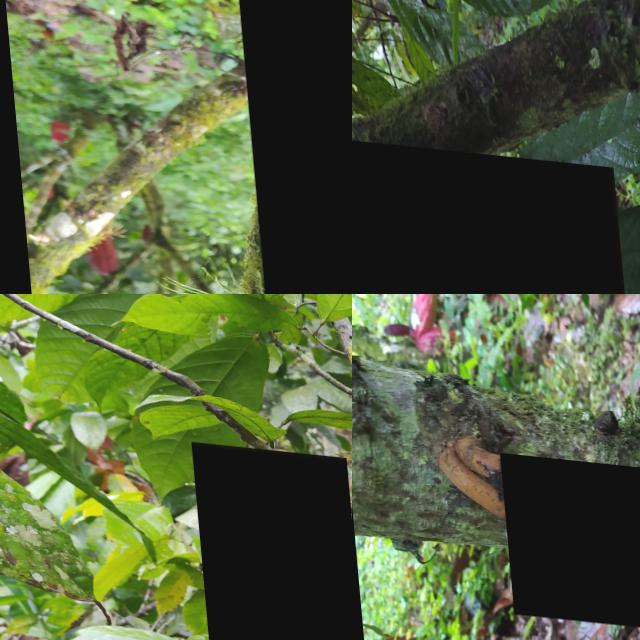Fitoftora: (233, 0, 352, 294)
Monilia: (352, 134, 625, 294), (187, 436, 352, 640), (495, 449, 640, 633)
